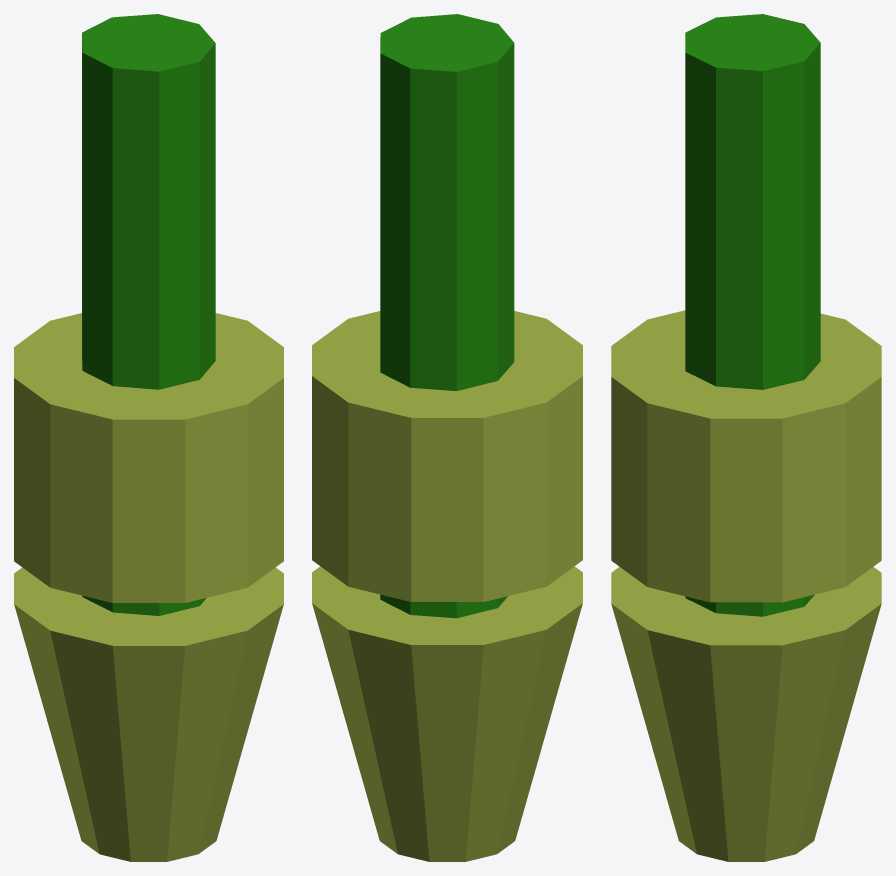
File: Hose.gltf
3 renders of one model, left to right at view 1: azimuth 30°, elevation 25°; view 2: azimuth 150°, elevation 25°; view 3: azimuth 270°, elevation 25°, orthographic.
Parts seen in each view (by area): view 1: guage, tip, hose2, hose1; view 2: guage, tip, hose2, hose1; view 3: guage, tip, hose2, hose1.
Boxes of the visible parts, bbox=[...] form: guage: bbox=[14, 313, 283, 602]; tip: bbox=[14, 567, 283, 861]; hose2: bbox=[82, 14, 215, 389]; hose1: bbox=[82, 595, 206, 615]; guage: bbox=[312, 311, 582, 601]; tip: bbox=[312, 566, 582, 861]; hose2: bbox=[380, 14, 514, 390]; hose1: bbox=[380, 594, 507, 618]; guage: bbox=[611, 310, 881, 602]; tip: bbox=[611, 567, 881, 861]; hose2: bbox=[685, 14, 820, 389]; hose1: bbox=[685, 594, 814, 616].
Size of the model in its own units: 0.25 by 0.8062 by 0.25.
Materials: 2 (2 with a texture image).
